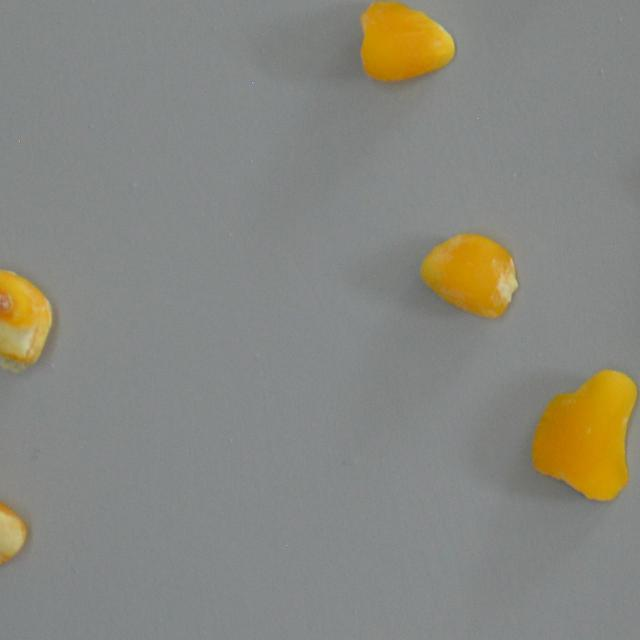dañado: (0, 260, 57, 374)
estandar: (354, 0, 454, 84)
no_canjicado: (525, 370, 639, 503)
pelicula: (416, 225, 529, 324)
punto_negro: (0, 485, 28, 573)
